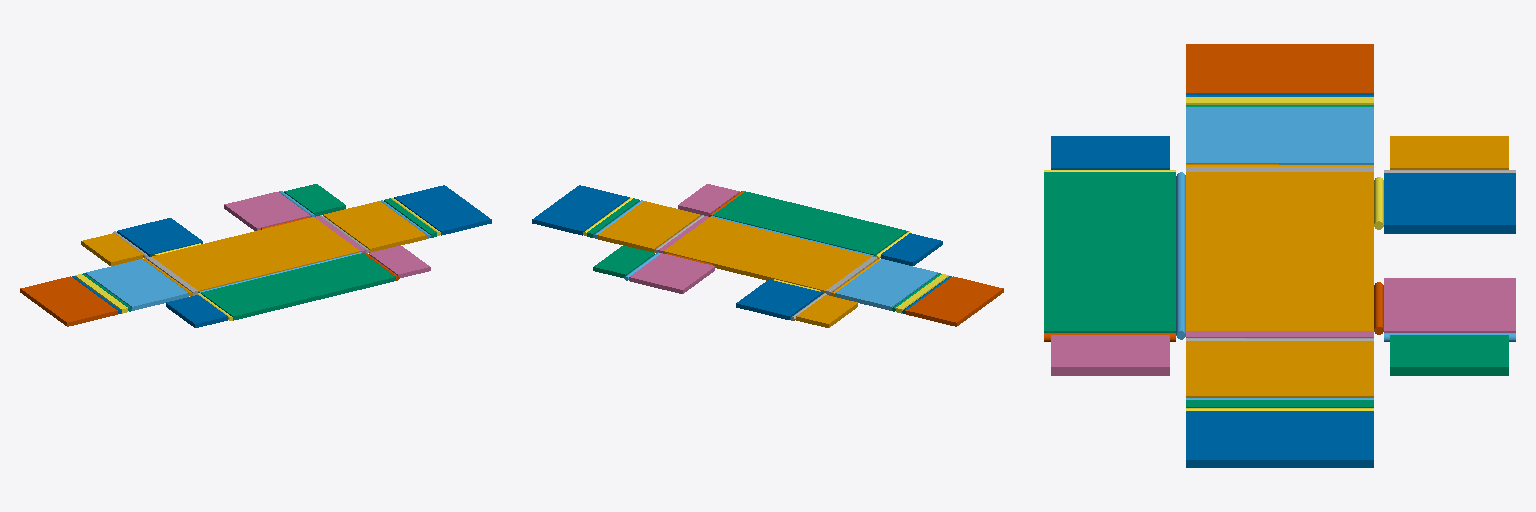
robot.urdf — box/box_bottom_left_right:
<?xml version="1.0"?>
<robot name="box/box_bottom_left_right">
 <link name="bottom">
  <inertial>
    <mass value="1"/>
    <inertia ixx="0.3335416666666667" ixy="0" ixz="0" iyy="0.41666666666666663" iyz="0" izz="0.08354166666666665"/>
  </inertial>
  <visual>
    <origin rpy="0 0 0" xyz="0 0 0"/>
    <geometry>
      <box size="2.0 1.0 0.05"/>
    </geometry>
  </visual>
  <collision>
    <origin rpy="0 0 0" xyz="0 0 0"/>
    <geometry>
      <box size="2.0 1.0 0.05"/>
    </geometry>
  </collision>
 </link>

 <link name="bottom-sideB">
  <inertial>
    <mass value="1"/>
    <inertia ixx="0.33348958333333334" ixy="0" ixz="0" iyy="0.33348958333333334" iyz="0" izz="0.00015625000000000003"/>
  </inertial>
  <visual>
    <origin rpy="0 1.57 0" xyz="0 -0.525 0"/>
    <geometry>
      <cylinder length="2.0" radius="0.025"/>
    </geometry>
  </visual>
  <collision>
    <origin rpy="0 1.57 0" xyz="0 -0.525 0"/>
    <geometry>
      <cylinder length="2.0" radius="0.025"/>
    </geometry>
  </collision>
 </link>

<joint name="joint_fixed_bottom_bottom-sideB" type="fixed">
  <origin rpy="0 0 0" xyz="0 0 0"/>
  <parent link="bottom"/>
  <child link="bottom-sideB"/>
</joint>

 <link name="sideB">
  <inertial>
    <mass value="1"/>
    <inertia ixx="0.3335416666666667" ixy="0" ixz="0" iyy="0.37416666666666665" iyz="0" izz="0.04104166666666666"/>
  </inertial>
  <visual>
    <origin rpy="0 0 0" xyz="0 -0.375 0"/>
    <geometry>
      <box size="2.0 0.7 0.05"/>
    </geometry>
  </visual>
  <collision>
    <origin rpy="0 0 0" xyz="0 -0.375 0"/>
    <geometry>
      <box size="2.0 0.7 0.05"/>
    </geometry>
  </collision>
 </link>

<joint name="joint_revolute_bottom-sideB_sideB_Z" type="revolute">
  <origin rpy="0 0 0" xyz="0 -0.525 0"/>
  <parent link="bottom-sideB"/>
  <child link="sideB"/>
  <axis xyz="1 0 0"/>
  <dynamics damping="0.01" friction="0.5"/>
  <limit lower="-1.57" upper="1.57" effort="0.01" velocity="100"/>
</joint>

 <link name="bottom-sideALEFT">
  <inertial>
    <mass value="1"/>
    <inertia ixx="0.02628958333333334" ixy="0" ixz="0" iyy="0.02628958333333334" iyz="0" izz="0.00015625000000000003"/>
  </inertial>
  <visual>
    <origin rpy="0 1.57 0" xyz="-0.66 0.525 0"/>
    <geometry>
      <cylinder length="0.56" radius="0.025"/>
    </geometry>
  </visual>
  <collision>
    <origin rpy="0 1.57 0" xyz="-0.66 0.525 0"/>
    <geometry>
      <cylinder length="0.56" radius="0.025"/>
    </geometry>
  </collision>
 </link>

<joint name="joint_fixed_bottom_bottom-sideALEFT" type="fixed">
  <origin rpy="0 0 0" xyz="0 0 0"/>
  <parent link="bottom"/>
  <child link="bottom-sideALEFT"/>
</joint>

 <link name="sideALEFT">
  <inertial>
    <mass value="1"/>
    <inertia ixx="0.03650833333333334" ixy="0" ixz="0" iyy="0.07713333333333333" iyz="0" izz="0.04104166666666666"/>
  </inertial>
  <visual>
    <origin rpy="0 0 0" xyz="-0.66 0.375 0"/>
    <geometry>
      <box size="0.66 0.7 0.05"/>
    </geometry>
  </visual>
  <collision>
    <origin rpy="0 0 0" xyz="-0.66 0.375 0"/>
    <geometry>
      <box size="0.66 0.7 0.05"/>
    </geometry>
  </collision>
 </link>

<joint name="joint_revolute_bottom-sideALEFT_sideALEFT_Z" type="revolute">
  <origin rpy="0 0 0" xyz="0 0.525 0"/>
  <parent link="bottom-sideALEFT"/>
  <child link="sideALEFT"/>
  <axis xyz="1 0 0"/>
  <dynamics damping="0.01" friction="0.5"/>
  <limit lower="-1.57" upper="1.57" effort="0.01" velocity="100"/>
</joint>

 <link name="bottom-sideARIGHT">
  <inertial>
    <mass value="1"/>
    <inertia ixx="0.02628958333333334" ixy="0" ixz="0" iyy="0.02628958333333334" iyz="0" izz="0.00015625000000000003"/>
  </inertial>
  <visual>
    <origin rpy="0 1.57 0" xyz="0.66 0.525 0"/>
    <geometry>
      <cylinder length="0.56" radius="0.025"/>
    </geometry>
  </visual>
  <collision>
    <origin rpy="0 1.57 0" xyz="0.66 0.525 0"/>
    <geometry>
      <cylinder length="0.56" radius="0.025"/>
    </geometry>
  </collision>
 </link>

<joint name="joint_fixed_bottom_bottom-sideARIGHT" type="fixed">
  <origin rpy="0 0 0" xyz="0 0 0"/>
  <parent link="bottom"/>
  <child link="bottom-sideARIGHT"/>
</joint>

 <link name="sideARIGHT">
  <inertial>
    <mass value="1"/>
    <inertia ixx="0.03650833333333334" ixy="0" ixz="0" iyy="0.07713333333333333" iyz="0" izz="0.04104166666666666"/>
  </inertial>
  <visual>
    <origin rpy="0 0 0" xyz="0.66 0.375 0"/>
    <geometry>
      <box size="0.66 0.7 0.05"/>
    </geometry>
  </visual>
  <collision>
    <origin rpy="0 0 0" xyz="0.66 0.375 0"/>
    <geometry>
      <box size="0.66 0.7 0.05"/>
    </geometry>
  </collision>
 </link>

<joint name="joint_revolute_bottom-sideARIGHT_sideARIGHT_Z" type="revolute">
  <origin rpy="0 0 0" xyz="0 0.525 0"/>
  <parent link="bottom-sideARIGHT"/>
  <child link="sideARIGHT"/>
  <axis xyz="1 0 0"/>
  <dynamics damping="0.01" friction="0.5"/>
  <limit lower="-1.57" upper="1.57" effort="0.01" velocity="100"/>
</joint>

 <link name="sideA-left">
  <inertial>
    <mass value="1"/>
    <inertia ixx="0.04098958333333332" ixy="0" ixz="0" iyy="0.04098958333333332" iyz="0" izz="0.00015625000000000003"/>
  </inertial>
  <visual>
    <origin rpy="1.57 0 0" xyz="-1.025 0 0"/>
    <geometry>
      <cylinder length="0.7" radius="0.025"/>
    </geometry>
  </visual>
  <collision>
    <origin rpy="1.57 0 0" xyz="-1.025 0 0"/>
    <geometry>
      <cylinder length="0.7" radius="0.025"/>
    </geometry>
  </collision>
 </link>

<joint name="joint_fixed_sideALEFT_sideA-left" type="fixed">
  <origin rpy="0 0 0" xyz="0 0.375 0"/>
  <parent link="sideALEFT"/>
  <child link="sideA-left"/>
</joint>

 <link name="sideA1">
  <inertial>
    <mass value="1"/>
    <inertia ixx="0.013541666666666669" ixy="0" ixz="0" iyy="0.046408333333333336" iyz="0" izz="0.03328333333333333"/>
  </inertial>
  <visual>
    <origin rpy="0 0 0" xyz="-0.225 0 0"/>
    <geometry>
      <box size="0.4 0.63 0.05"/>
    </geometry>
  </visual>
  <collision>
    <origin rpy="0 0 0" xyz="-0.225 0 0"/>
    <geometry>
      <box size="0.4 0.63 0.05"/>
    </geometry>
  </collision>
 </link>

<joint name="joint_revolute_sideA-left_sideA1_Z" type="revolute">
  <origin rpy="0 0 0" xyz="-1.025 0 0"/>
  <parent link="sideA-left"/>
  <child link="sideA1"/>
  <axis xyz="0 1 0"/>
  <dynamics damping="0.01" friction="0.5"/>
  <limit lower="-1.57" upper="1.57" effort="0.01" velocity="100"/>
</joint>

 <link name="sideA-right">
  <inertial>
    <mass value="1"/>
    <inertia ixx="0.04098958333333332" ixy="0" ixz="0" iyy="0.04098958333333332" iyz="0" izz="0.00015625000000000003"/>
  </inertial>
  <visual>
    <origin rpy="1.57 0 0" xyz="1.025 0 0"/>
    <geometry>
      <cylinder length="0.7" radius="0.025"/>
    </geometry>
  </visual>
  <collision>
    <origin rpy="1.57 0 0" xyz="1.025 0 0"/>
    <geometry>
      <cylinder length="0.7" radius="0.025"/>
    </geometry>
  </collision>
 </link>

<joint name="joint_fixed_sideARIGHT_sideA-right" type="fixed">
  <origin rpy="0 0 0" xyz="0 0.375 0"/>
  <parent link="sideARIGHT"/>
  <child link="sideA-right"/>
</joint>

 <link name="sideA2">
  <inertial>
    <mass value="1"/>
    <inertia ixx="0.013541666666666669" ixy="0" ixz="0" iyy="0.046408333333333336" iyz="0" izz="0.03328333333333333"/>
  </inertial>
  <visual>
    <origin rpy="0 0 0" xyz="0.225 0 0"/>
    <geometry>
      <box size="0.4 0.63 0.05"/>
    </geometry>
  </visual>
  <collision>
    <origin rpy="0 0 0" xyz="0.225 0 0"/>
    <geometry>
      <box size="0.4 0.63 0.05"/>
    </geometry>
  </collision>
 </link>

<joint name="joint_revolute_sideA-right_sideA2_Z" type="revolute">
  <origin rpy="0 0 0" xyz="1.025 0 0"/>
  <parent link="sideA-right"/>
  <child link="sideA2"/>
  <axis xyz="0 1 0"/>
  <dynamics damping="0.01" friction="0.5"/>
  <limit lower="-1.57" upper="1.57" effort="0.01" velocity="100"/>
</joint>

 <link name="sideB-left">
  <inertial>
    <mass value="1"/>
    <inertia ixx="0.04098958333333332" ixy="0" ixz="0" iyy="0.04098958333333332" iyz="0" izz="0.00015625000000000003"/>
  </inertial>
  <visual>
    <origin rpy="1.57 0 0" xyz="-1.025 0 0"/>
    <geometry>
      <cylinder length="0.7" radius="0.025"/>
    </geometry>
  </visual>
  <collision>
    <origin rpy="1.57 0 0" xyz="-1.025 0 0"/>
    <geometry>
      <cylinder length="0.7" radius="0.025"/>
    </geometry>
  </collision>
 </link>

<joint name="joint_fixed_sideB_sideB-left" type="fixed">
  <origin rpy="0 0 0" xyz="0 -0.375 0"/>
  <parent link="sideB"/>
  <child link="sideB-left"/>
</joint>

 <link name="sideB1">
  <inertial>
    <mass value="1"/>
    <inertia ixx="0.013541666666666669" ixy="0" ixz="0" iyy="0.046408333333333336" iyz="0" izz="0.03328333333333333"/>
  </inertial>
  <visual>
    <origin rpy="0 0 0" xyz="-0.225 0 0"/>
    <geometry>
      <box size="0.4 0.63 0.05"/>
    </geometry>
  </visual>
  <collision>
    <origin rpy="0 0 0" xyz="-0.225 0 0"/>
    <geometry>
      <box size="0.4 0.63 0.05"/>
    </geometry>
  </collision>
 </link>

<joint name="joint_revolute_sideB-left_sideB1_Z" type="revolute">
  <origin rpy="0 0 0" xyz="-1.025 0 0"/>
  <parent link="sideB-left"/>
  <child link="sideB1"/>
  <axis xyz="0 1 0"/>
  <dynamics damping="0.01" friction="0.5"/>
  <limit lower="-1.57" upper="1.57" effort="0.01" velocity="100"/>
</joint>

 <link name="sideB-right">
  <inertial>
    <mass value="1"/>
    <inertia ixx="0.04098958333333332" ixy="0" ixz="0" iyy="0.04098958333333332" iyz="0" izz="0.00015625000000000003"/>
  </inertial>
  <visual>
    <origin rpy="1.57 0 0" xyz="1.025 0 0"/>
    <geometry>
      <cylinder length="0.7" radius="0.025"/>
    </geometry>
  </visual>
  <collision>
    <origin rpy="1.57 0 0" xyz="1.025 0 0"/>
    <geometry>
      <cylinder length="0.7" radius="0.025"/>
    </geometry>
  </collision>
 </link>

<joint name="joint_fixed_sideB_sideB-right" type="fixed">
  <origin rpy="0 0 0" xyz="0 -0.375 0"/>
  <parent link="sideB"/>
  <child link="sideB-right"/>
</joint>

 <link name="sideB2">
  <inertial>
    <mass value="1"/>
    <inertia ixx="0.013541666666666669" ixy="0" ixz="0" iyy="0.046408333333333336" iyz="0" izz="0.03328333333333333"/>
  </inertial>
  <visual>
    <origin rpy="0 0 0" xyz="0.225 0 0"/>
    <geometry>
      <box size="0.4 0.63 0.05"/>
    </geometry>
  </visual>
  <collision>
    <origin rpy="0 0 0" xyz="0.225 0 0"/>
    <geometry>
      <box size="0.4 0.63 0.05"/>
    </geometry>
  </collision>
 </link>

<joint name="joint_revolute_sideB-right_sideB2_Z" type="revolute">
  <origin rpy="0 0 0" xyz="1.025 0 0"/>
  <parent link="sideB-right"/>
  <child link="sideB2"/>
  <axis xyz="0 1 0"/>
  <dynamics damping="0.01" friction="0.5"/>
  <limit lower="-1.57" upper="1.57" effort="0.01" velocity="100"/>
</joint>

 <link name="padB1">
  <inertial>
    <mass value="1"/>
    <inertia ixx="0.0005604166666666667" ixy="0" ixz="0" iyy="0.08368541666666665" iyz="0" izz="0.08354166666666665"/>
  </inertial>
  <visual>
    <origin rpy="0 0 0" xyz="-1.0325 0 0"/>
    <geometry>
      <box size="0.065 1.0 0.05"/>
    </geometry>
  </visual>
  <collision>
    <origin rpy="0 0 0" xyz="-1.0325 0 0"/>
    <geometry>
      <box size="0.065 1.0 0.05"/>
    </geometry>
  </collision>
 </link>

<joint name="joint_fixed_bottom_padB1" type="fixed">
  <origin rpy="0 0 0" xyz="0 0 0"/>
  <parent link="bottom"/>
  <child link="padB1"/>
</joint>

 <link name="padB-cylinder">
  <inertial>
    <mass value="1"/>
    <inertia ixx="0.08348958333333333" ixy="0" ixz="0" iyy="0.08348958333333333" iyz="0" izz="0.00015625000000000003"/>
  </inertial>
  <visual>
    <origin rpy="1.57 0 0" xyz="-1.0899999999999999 0 0"/>
    <geometry>
      <cylinder length="1.0" radius="0.025"/>
    </geometry>
  </visual>
  <collision>
    <origin rpy="1.57 0 0" xyz="-1.0899999999999999 0 0"/>
    <geometry>
      <cylinder length="1.0" radius="0.025"/>
    </geometry>
  </collision>
 </link>

<joint name="joint_fixed_padB1_padB-cylinder" type="fixed">
  <origin rpy="0 0 0" xyz="0 0 0"/>
  <parent link="padB1"/>
  <child link="padB-cylinder"/>
</joint>

 <link name="B1">
  <inertial>
    <mass value="1"/>
    <inertia ixx="0.04104166666666666" ixy="0" ixz="0" iyy="0.12416666666666666" iyz="0" izz="0.08354166666666665"/>
  </inertial>
  <visual>
    <origin rpy="0 0 0" xyz="-0.375 0 0"/>
    <geometry>
      <box size="0.7 1.0 0.05"/>
    </geometry>
  </visual>
  <collision>
    <origin rpy="0 0 0" xyz="-0.375 0 0"/>
    <geometry>
      <box size="0.7 1.0 0.05"/>
    </geometry>
  </collision>
 </link>

<joint name="joint_revolute_padB-cylinder_B1_Z" type="revolute">
  <origin rpy="0 0 0" xyz="-1.0899999999999999 0 0"/>
  <parent link="padB-cylinder"/>
  <child link="B1"/>
  <axis xyz="0 1 0"/>
  <dynamics damping="0.01" friction="0.5"/>
  <limit lower="-1.57" upper="1.57" effort="0.01" velocity="100"/>
</joint>

 <link name="padB2-cylinder">
  <inertial>
    <mass value="1"/>
    <inertia ixx="0.08348958333333333" ixy="0" ixz="0" iyy="0.08348958333333333" iyz="0" izz="0.00015625000000000003"/>
  </inertial>
  <visual>
    <origin rpy="1.57 0 0" xyz="-0.375 0 0"/>
    <geometry>
      <cylinder length="1.0" radius="0.025"/>
    </geometry>
  </visual>
  <collision>
    <origin rpy="1.57 0 0" xyz="-0.375 0 0"/>
    <geometry>
      <cylinder length="1.0" radius="0.025"/>
    </geometry>
  </collision>
 </link>

<joint name="joint_fixed_B1_padB2-cylinder" type="fixed">
  <origin rpy="0 0 0" xyz="-0.375 0 0"/>
  <parent link="B1"/>
  <child link="padB2-cylinder"/>
</joint>

 <link name="padB2">
  <inertial>
    <mass value="1"/>
    <inertia ixx="0.0007416666666666667" ixy="0" ixz="0" iyy="0.08386666666666666" iyz="0" izz="0.08354166666666665"/>
  </inertial>
  <visual>
    <origin rpy="0 0 0" xyz="-0.065 0 0"/>
    <geometry>
      <box size="0.08 1.0 0.05"/>
    </geometry>
  </visual>
  <collision>
    <origin rpy="0 0 0" xyz="-0.065 0 0"/>
    <geometry>
      <box size="0.08 1.0 0.05"/>
    </geometry>
  </collision>
 </link>

<joint name="joint_revolute_padB2-cylinder_padB2_Z" type="revolute">
  <origin rpy="0 0 0" xyz="-0.375 0 0"/>
  <parent link="padB2-cylinder"/>
  <child link="padB2"/>
  <axis xyz="0 1 0"/>
  <dynamics damping="0.01" friction="0.5"/>
  <limit lower="-1.57" upper="1.57" effort="0.01" velocity="100"/>
</joint>

 <link name="B2-cylinder">
  <inertial>
    <mass value="1"/>
    <inertia ixx="0.08348958333333333" ixy="0" ixz="0" iyy="0.08348958333333333" iyz="0" izz="0.00015625000000000003"/>
  </inertial>
  <visual>
    <origin rpy="1.57 0 0" xyz="-0.065 0 0"/>
    <geometry>
      <cylinder length="1.0" radius="0.025"/>
    </geometry>
  </visual>
  <collision>
    <origin rpy="1.57 0 0" xyz="-0.065 0 0"/>
    <geometry>
      <cylinder length="1.0" radius="0.025"/>
    </geometry>
  </collision>
 </link>

<joint name="joint_fixed_padB2_B2-cylinder" type="fixed">
  <origin rpy="0 0 0" xyz="-0.065 0 0"/>
  <parent link="padB2"/>
  <child link="B2-cylinder"/>
</joint>

 <link name="B2">
  <inertial>
    <mass value="1"/>
    <inertia ixx="0.03224166666666667" ixy="0" ixz="0" iyy="0.11536666666666667" iyz="0" izz="0.08354166666666665"/>
  </inertial>
  <visual>
    <origin rpy="0 0 0" xyz="-0.335 0 0"/>
    <geometry>
      <box size="0.62 1.0 0.05"/>
    </geometry>
  </visual>
  <collision>
    <origin rpy="0 0 0" xyz="-0.335 0 0"/>
    <geometry>
      <box size="0.62 1.0 0.05"/>
    </geometry>
  </collision>
 </link>

<joint name="joint_revolute_B2-cylinder_B2_Z" type="revolute">
  <origin rpy="0 0 0" xyz="-0.065 0 0"/>
  <parent link="B2-cylinder"/>
  <child link="B2"/>
  <axis xyz="0 1 0"/>
  <dynamics damping="0.01" friction="0.5"/>
  <limit lower="-1.57" upper="1.57" effort="0.01" velocity="100"/>
</joint>

 <link name="padB3">
  <inertial>
    <mass value="1"/>
    <inertia ixx="0.0005604166666666667" ixy="0" ixz="0" iyy="0.08368541666666665" iyz="0" izz="0.08354166666666665"/>
  </inertial>
  <visual>
    <origin rpy="0 0 0" xyz="1.0325 0 0"/>
    <geometry>
      <box size="0.065 1.0 0.05"/>
    </geometry>
  </visual>
  <collision>
    <origin rpy="0 0 0" xyz="1.0325 0 0"/>
    <geometry>
      <box size="0.065 1.0 0.05"/>
    </geometry>
  </collision>
 </link>

<joint name="joint_fixed_bottom_padB3" type="fixed">
  <origin rpy="0 0 0" xyz="0 0 0"/>
  <parent link="bottom"/>
  <child link="padB3"/>
</joint>

 <link name="padB3-cylinder">
  <inertial>
    <mass value="1"/>
    <inertia ixx="0.08348958333333333" ixy="0" ixz="0" iyy="0.08348958333333333" iyz="0" izz="0.00015625000000000003"/>
  </inertial>
  <visual>
    <origin rpy="1.57 0 0" xyz="1.0899999999999999 0 0"/>
    <geometry>
      <cylinder length="1.0" radius="0.025"/>
    </geometry>
  </visual>
  <collision>
    <origin rpy="1.57 0 0" xyz="1.0899999999999999 0 0"/>
    <geometry>
      <cylinder length="1.0" radius="0.025"/>
    </geometry>
  </collision>
 </link>

<joint name="joint_fixed_padB3_padB3-cylinder" type="fixed">
  <origin rpy="0 0 0" xyz="0 0 0"/>
  <parent link="padB3"/>
  <child link="padB3-cylinder"/>
</joint>

 <link name="B3">
  <inertial>
    <mass value="1"/>
    <inertia ixx="0.04104166666666666" ixy="0" ixz="0" iyy="0.12416666666666666" iyz="0" izz="0.08354166666666665"/>
  </inertial>
  <visual>
    <origin rpy="0 0 0" xyz="0.375 0 0"/>
    <geometry>
      <box size="0.7 1.0 0.05"/>
    </geometry>
  </visual>
  <collision>
    <origin rpy="0 0 0" xyz="0.375 0 0"/>
    <geometry>
      <box size="0.7 1.0 0.05"/>
    </geometry>
  </collision>
 </link>

<joint name="joint_revolute_padB3-cylinder_B3_Z" type="revolute">
  <origin rpy="0 0 0" xyz="1.0899999999999999 0 0"/>
  <parent link="padB3-cylinder"/>
  <child link="B3"/>
  <axis xyz="0 1 0"/>
  <dynamics damping="0.01" friction="0.5"/>
  <limit lower="-1.57" upper="1.57" effort="0.01" velocity="100"/>
</joint>

 <link name="padB4-cylinder">
  <inertial>
    <mass value="1"/>
    <inertia ixx="0.08348958333333333" ixy="0" ixz="0" iyy="0.08348958333333333" iyz="0" izz="0.00015625000000000003"/>
  </inertial>
  <visual>
    <origin rpy="1.57 0 0" xyz="0.375 0 0"/>
    <geometry>
      <cylinder length="1.0" radius="0.025"/>
    </geometry>
  </visual>
  <collision>
    <origin rpy="1.57 0 0" xyz="0.375 0 0"/>
    <geometry>
      <cylinder length="1.0" radius="0.025"/>
    </geometry>
  </collision>
 </link>

<joint name="joint_fixed_B3_padB4-cylinder" type="fixed">
  <origin rpy="0 0 0" xyz="0.375 0 0"/>
  <parent link="B3"/>
  <child link="padB4-cylinder"/>
</joint>

 <link name="padB4">
  <inertial>
    <mass value="1"/>
    <inertia ixx="0.0007416666666666667" ixy="0" ixz="0" iyy="0.08386666666666666" iyz="0" izz="0.08354166666666665"/>
  </inertial>
  <visual>
    <origin rpy="0 0 0" xyz="0.065 0 0"/>
    <geometry>
      <box size="0.08 1.0 0.05"/>
    </geometry>
  </visual>
  <collision>
    <origin rpy="0 0 0" xyz="0.065 0 0"/>
    <geometry>
      <box size="0.08 1.0 0.05"/>
    </geometry>
  </collision>
 </link>

<joint name="joint_revolute_padB4-cylinder_padB4_Z" type="revolute">
  <origin rpy="0 0 0" xyz="0.375 0 0"/>
  <parent link="padB4-cylinder"/>
  <child link="padB4"/>
  <axis xyz="0 1 0"/>
  <dynamics damping="0.01" friction="0.5"/>
  <limit lower="-1.57" upper="1.57" effort="0.01" velocity="100"/>
</joint>

 <link name="B4-cylinder">
  <inertial>
    <mass value="1"/>
    <inertia ixx="0.08348958333333333" ixy="0" ixz="0" iyy="0.08348958333333333" iyz="0" izz="0.00015625000000000003"/>
  </inertial>
  <visual>
    <origin rpy="1.57 0 0" xyz="0.065 0 0"/>
    <geometry>
      <cylinder length="1.0" radius="0.025"/>
    </geometry>
  </visual>
  <collision>
    <origin rpy="1.57 0 0" xyz="0.065 0 0"/>
    <geometry>
      <cylinder length="1.0" radius="0.025"/>
    </geometry>
  </collision>
 </link>

<joint name="joint_fixed_padB4_B4-cylinder" type="fixed">
  <origin rpy="0 0 0" xyz="0.065 0 0"/>
  <parent link="padB4"/>
  <child link="B4-cylinder"/>
</joint>

 <link name="B4">
  <inertial>
    <mass value="1"/>
    <inertia ixx="0.03224166666666667" ixy="0" ixz="0" iyy="0.11536666666666667" iyz="0" izz="0.08354166666666665"/>
  </inertial>
  <visual>
    <origin rpy="0 0 0" xyz="0.335 0 0"/>
    <geometry>
      <box size="0.62 1.0 0.05"/>
    </geometry>
  </visual>
  <collision>
    <origin rpy="0 0 0" xyz="0.335 0 0"/>
    <geometry>
      <box size="0.62 1.0 0.05"/>
    </geometry>
  </collision>
 </link>

<joint name="joint_revolute_B4-cylinder_B4_Z" type="revolute">
  <origin rpy="0 0 0" xyz="0.065 0 0"/>
  <parent link="B4-cylinder"/>
  <child link="B4"/>
  <axis xyz="0 1 0"/>
  <dynamics damping="0.01" friction="0.5"/>
  <limit lower="-1.57" upper="1.57" effort="0.01" velocity="100"/>
</joint>

  <klampt package_root="../../.." default_acc_max="4" >
  </klampt>
</robot>

--- What the picture shows (computed from the rendered views, not written in the file) ---
The picture shows the robot from 3 angles, left to right: view 1: azimuth 30°, elevation 25°; view 2: azimuth 150°, elevation 25°; view 3: azimuth 270°, elevation 25°; orthographic projection.
Robot: box/box_bottom_left_right — 29 links, 28 joints (13 revolute, 15 fixed); root link bottom; default pose: every joint at zero.
Links seen in each view (by area): view 1: bottom, sideB, B1, B3, B2, B4, sideARIGHT, sideALEFT, sideB1, sideA1, sideB2, sideA2; view 2: bottom, sideB, B1, B3, B2, B4, sideARIGHT, sideALEFT, sideA1, sideB1, sideA2, sideB2; view 3: bottom, sideB, B1, B3, B4, B2, sideALEFT, sideARIGHT, sideA2, sideB2, sideA1, sideB1 (+8 smaller).
Link boxes in pixels (<box>): bottom: <box>152,217,360,291</box>; sideB: <box>201,253,395,320</box>; B1: <box>85,259,188,310</box>; B3: <box>323,201,426,252</box>; B2: <box>20,276,117,326</box>; B4: <box>394,185,491,235</box>; sideARIGHT: <box>224,192,310,230</box>; sideALEFT: <box>117,218,202,256</box>; sideB1: <box>166,295,227,327</box>; sideA1: <box>81,233,142,265</box>; sideB2: <box>369,245,430,277</box>; sideA2: <box>284,184,345,216</box>; bottom: <box>663,217,871,293</box>; sideB: <box>713,191,907,255</box>; B1: <box>835,259,938,310</box>; B3: <box>597,201,700,252</box>; B2: <box>906,276,1003,326</box>; B4: <box>532,185,629,235</box>; sideARIGHT: <box>629,253,714,293</box>; sideALEFT: <box>736,279,822,319</box>; sideA1: <box>796,295,857,327</box>; sideB1: <box>881,233,942,265</box>; sideA2: <box>593,245,654,277</box>; sideB2: <box>678,184,739,216</box>; bottom: <box>1186,172,1373,330</box>; sideB: <box>1044,172,1175,332</box>; B1: <box>1186,107,1373,164</box>; B3: <box>1186,341,1373,397</box>; B4: <box>1186,411,1373,467</box>; B2: <box>1186,44,1373,93</box>; sideALEFT: <box>1384,173,1515,233</box>; sideARIGHT: <box>1384,278,1515,332</box>; sideA2: <box>1390,335,1508,375</box>; sideB2: <box>1051,335,1169,375</box>; sideA1: <box>1390,136,1508,169</box>; sideB1: <box>1051,136,1169,169</box>.
Bounding box of the posed robot: 5.23 × 2.5 × 0.0516 m (x, y, z).
Geometry: primitives only (box / cylinder / sphere), no mesh files.